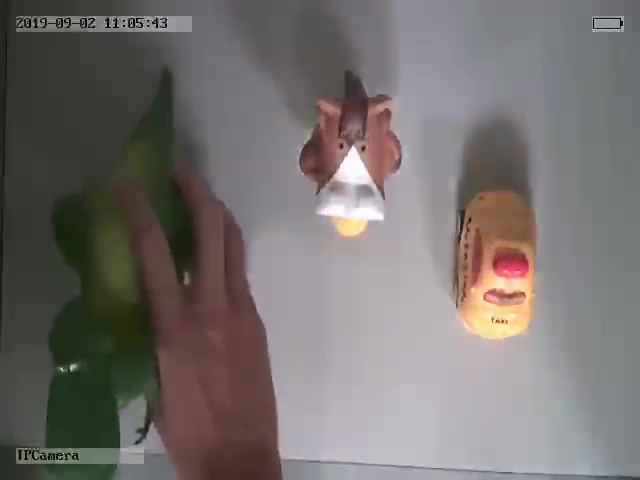car: (452, 184, 540, 343)
horse: (298, 74, 403, 238)
